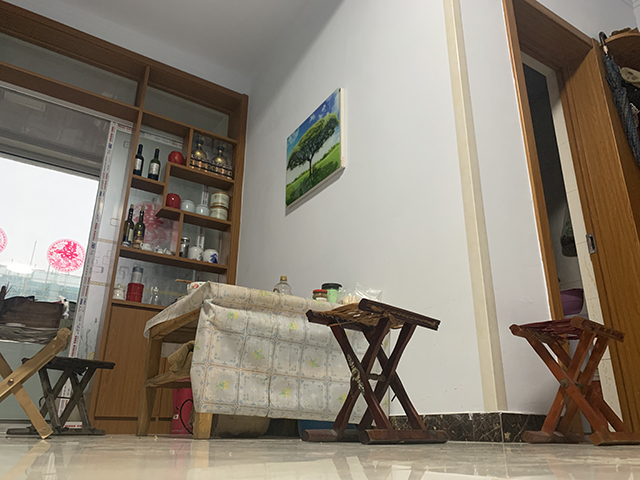cabinet: (83, 296, 181, 436)
stool: (299, 298, 449, 445), (508, 315, 640, 448), (4, 355, 117, 439), (1, 324, 76, 441)
table: (134, 278, 391, 439)
